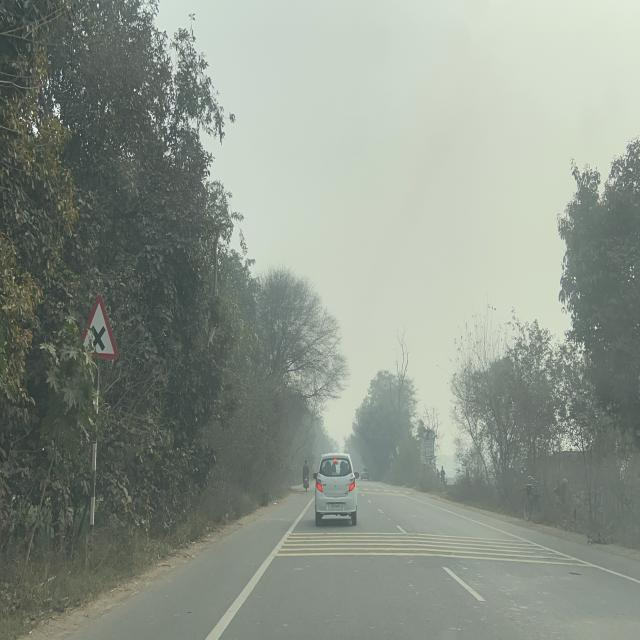CROSS_ROAD: (78, 293, 120, 360)
